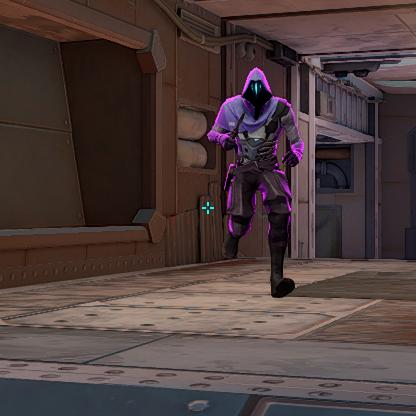enemyBody: (237, 109, 273, 164)
enemyHead: (250, 78, 266, 105)
